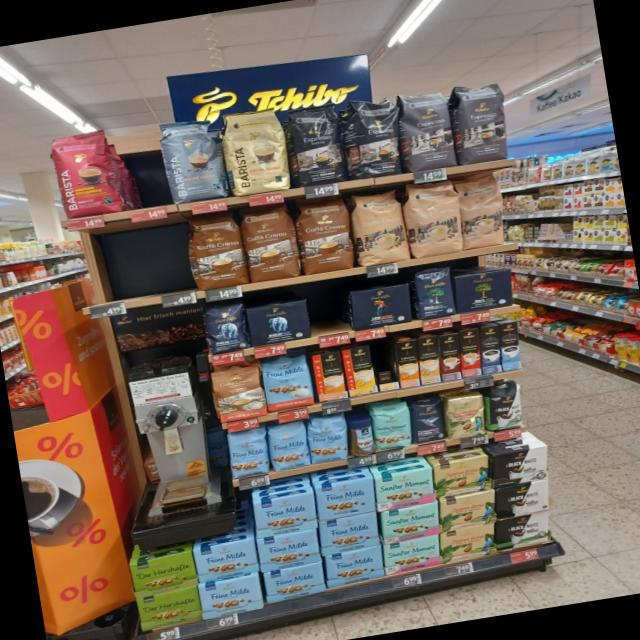AB Bohne: (202, 301, 251, 355)
AB Gemahlen: (245, 298, 313, 348)
BM Bohne: (412, 266, 458, 320)
BM Gemahlen: (452, 268, 518, 314)
BW Bohne: (486, 382, 526, 430)
BW Gemahlen: (490, 446, 553, 487), (494, 479, 553, 518), (494, 513, 551, 550)
Barista CB: (220, 105, 294, 198)
Barista CC: (156, 114, 228, 205)
Barista Kolumbien: (49, 128, 124, 219)
C Fino Bohne: (409, 396, 449, 444)
CC Mild: (348, 186, 412, 268), (403, 178, 467, 260), (456, 172, 508, 250)
CC Vollmundig: (209, 364, 268, 424)
CC Vollmundig 36 Pads: (184, 211, 251, 291), (241, 203, 301, 283), (296, 194, 356, 274)
Colombia BB Bohne: (444, 392, 490, 439)
Colombia BB Gemahlen: (432, 456, 495, 498), (439, 523, 499, 564), (438, 491, 499, 530)
Espresso Aromatisch: (452, 78, 514, 164), (400, 86, 458, 172)
Espresso Kraftig: (341, 92, 409, 180), (284, 102, 349, 190)
FM 36 Pads: (261, 354, 315, 412)
FM Bohne: (225, 428, 272, 480), (306, 413, 353, 464), (266, 420, 312, 472)
FM Gemahlen: (192, 536, 261, 582), (251, 493, 319, 538), (198, 574, 264, 620), (314, 476, 380, 520), (255, 528, 322, 571), (317, 512, 382, 556), (262, 561, 327, 603), (324, 546, 386, 588)
FM Instant: (346, 414, 378, 459)
Herzhatfe Mundig: (128, 552, 200, 599), (132, 586, 204, 633)
LG Gemahlen: (346, 282, 414, 332)
SM Bohne: (371, 403, 416, 452)
SM Gemahlen: (379, 502, 444, 544), (374, 468, 438, 510), (382, 534, 444, 576)
Simo CCMild: (341, 344, 377, 396)
Simo CCVollmundig: (311, 351, 347, 402)
Simo CCVollmundig bigpack: (395, 339, 421, 388)
Simo Decaff: (418, 335, 441, 385)
Simo Es Brazil: (460, 328, 482, 378)
Simo Es Caramel: (439, 332, 462, 382)
Simo Es Kraft: (480, 324, 503, 374)
Simo Es Vanilla: (500, 321, 523, 371)
